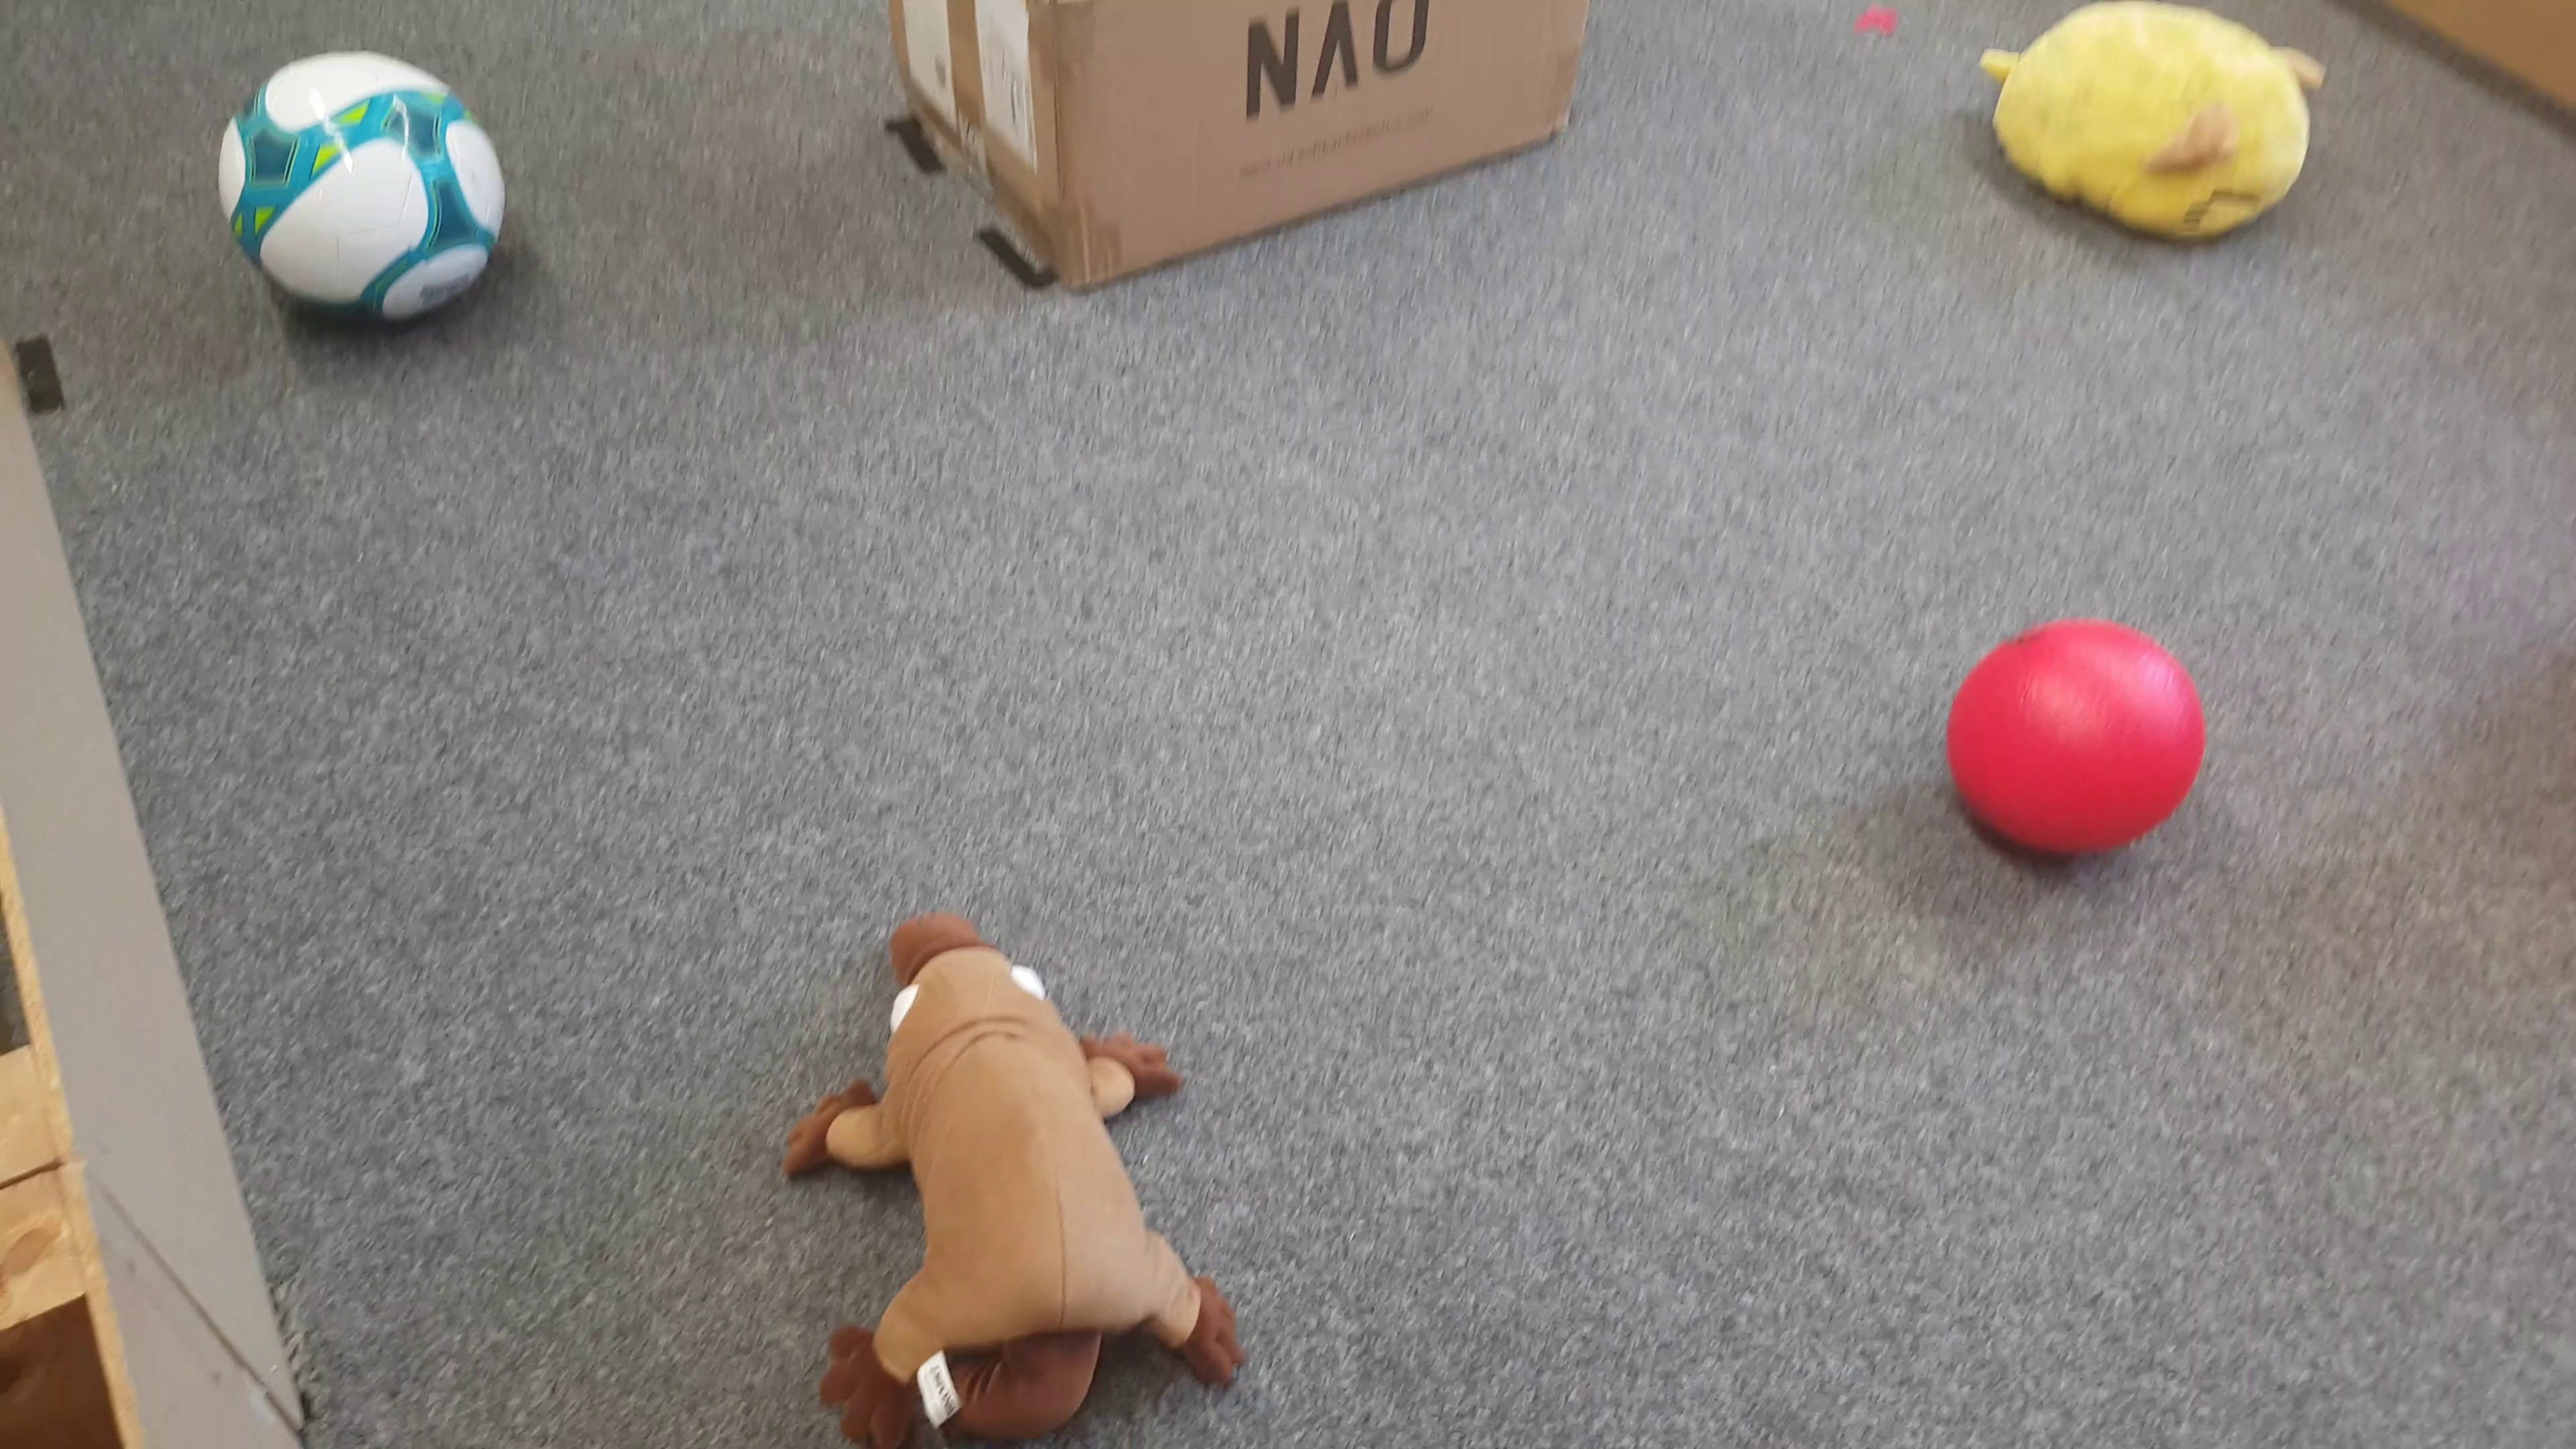grasp: (778, 908, 1249, 1449), (1982, 2, 2316, 251)
kick: (218, 51, 506, 327), (1943, 619, 2206, 867)
